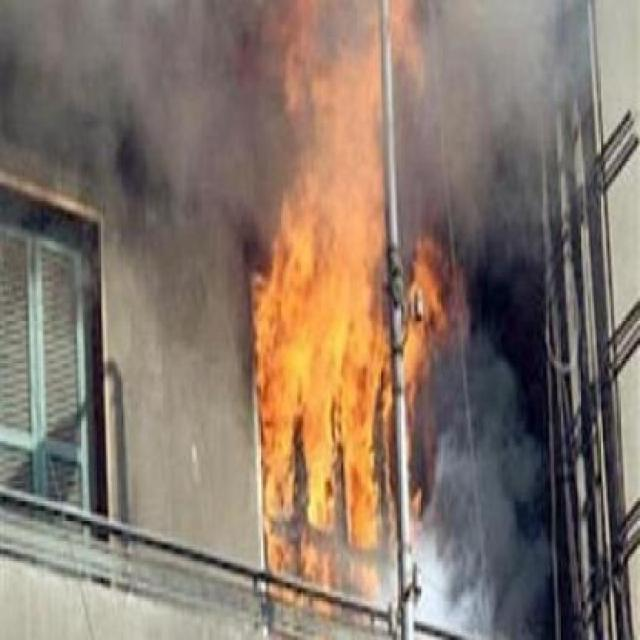Fire: (230, 167, 467, 598)
Smoke: (460, 94, 622, 571), (11, 15, 240, 328)
